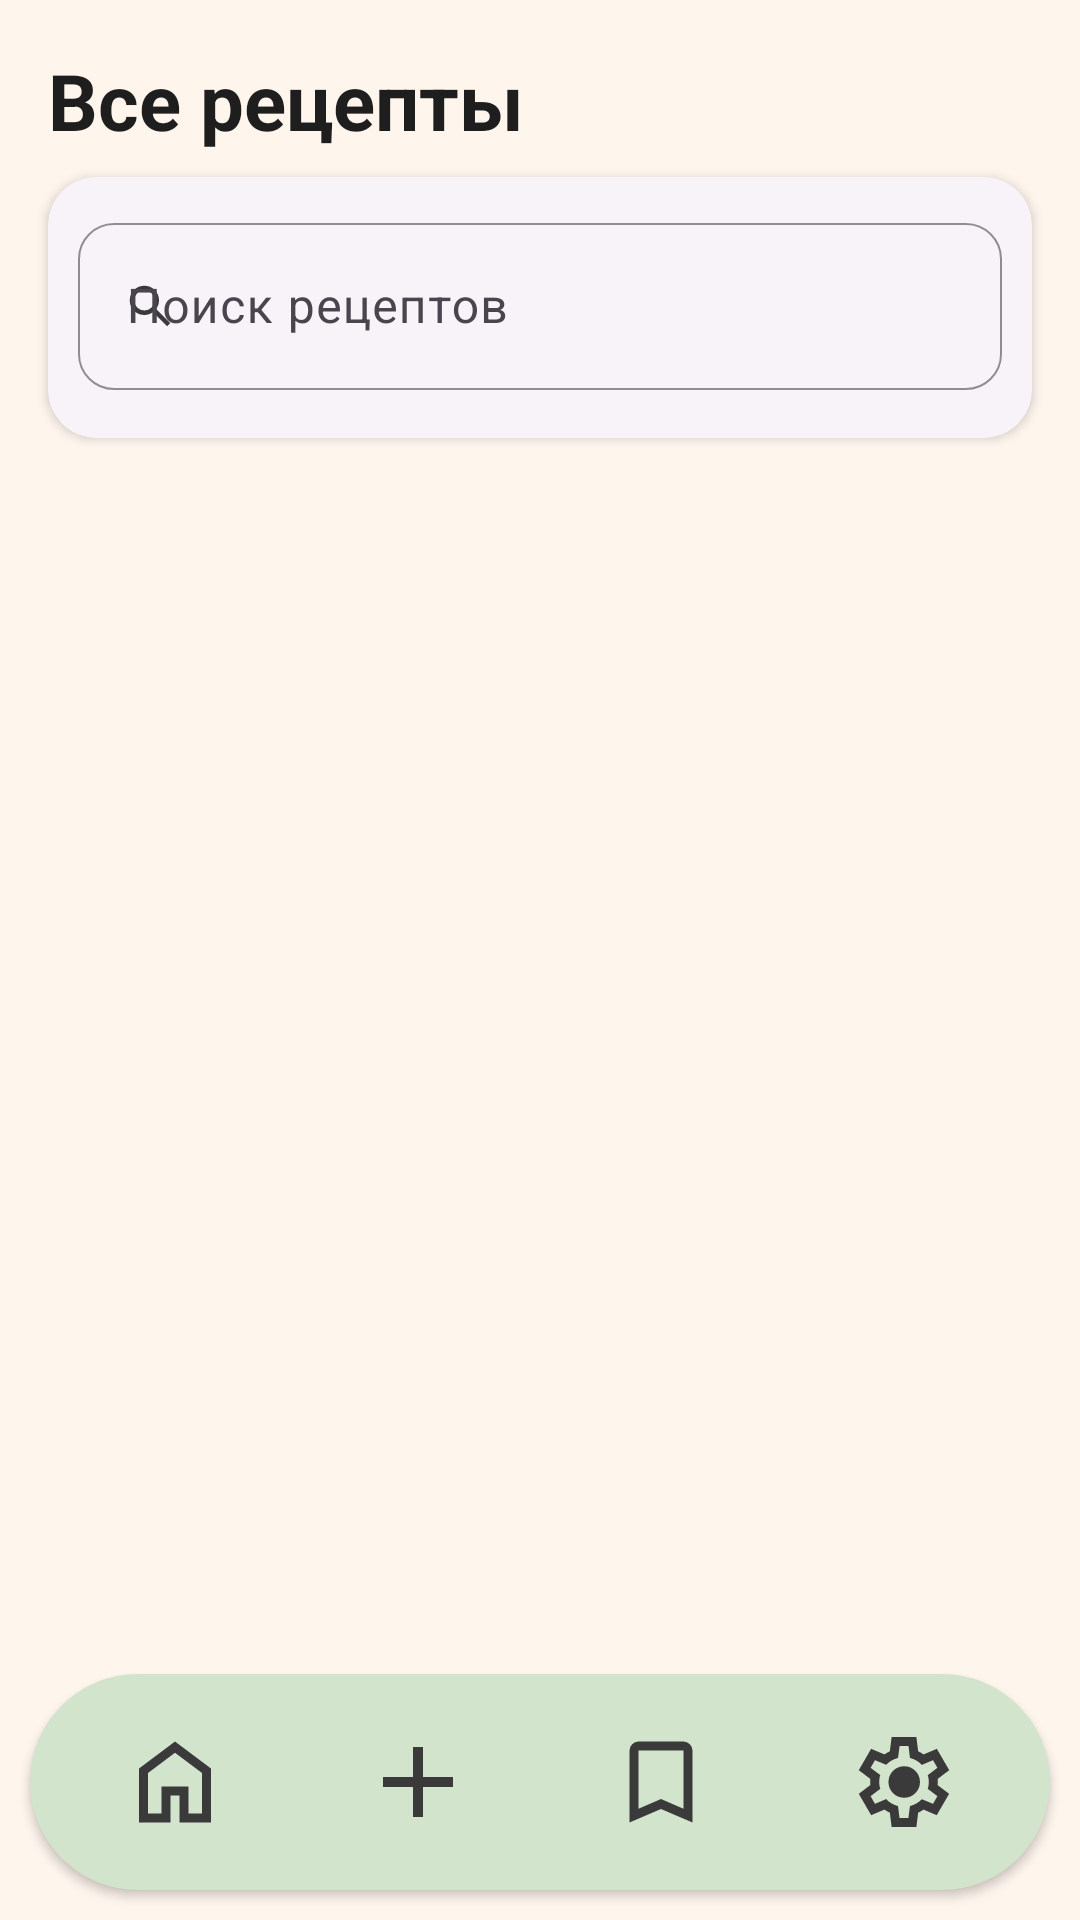

Where icons sit on this 1080 x 1920 app screen, as (x1, y1, x2, y2):
add: (383, 1747, 453, 1817)
bookmark: (629, 1741, 693, 1823)
home: (139, 1741, 211, 1823)
settings: (859, 1737, 949, 1827)
